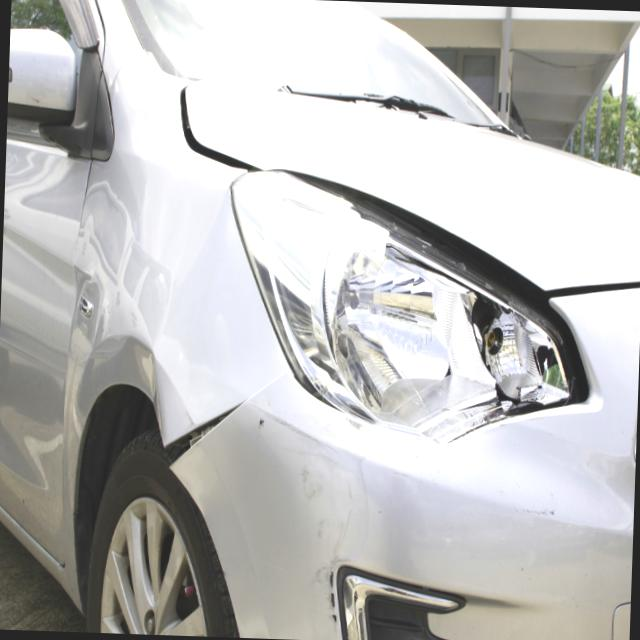Dechirure: (155, 392, 246, 494)
Phare abime: (343, 217, 597, 444)
Rayure: (289, 417, 387, 599)
